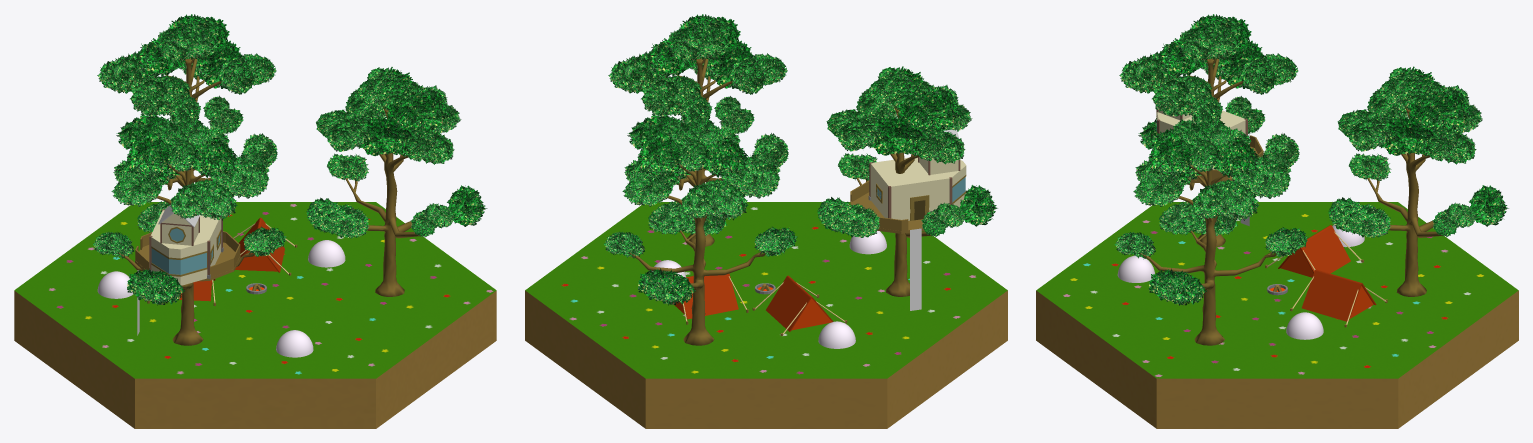
Rendered from Tuile_Foret_Village_Niv2.fbx.
3 renders of one model, left to right at view 1: azimuth 30°, elevation 25°; view 2: azimuth 150°, elevation 25°; view 3: azimuth 270°, elevation 25°, orthographic.
Parts seen in each view (by area): view 1: Tuile, Arbres, maison.002, Sphere, platforme.002, Tente.004, poutre.002, Tente.001; view 2: Tuile, Arbres, maison.002, Tente.001, Sphere, Tente.004, platforme.002, Plane.002; view 3: Tuile, Arbres, Tente.004, Tente.001, Sphere, maison.002.
Boxes of the visible parts, <box> form: Tuile: <box>14,202,496,428</box>; Arbres: <box>93,14,487,345</box>; maison.002: <box>151,210,221,285</box>; Sphere: <box>97,240,345,357</box>; platforme.002: <box>135,231,240,281</box>; Tente.004: <box>233,217,297,275</box>; poutre.002: <box>149,209,223,278</box>; Tente.001: <box>147,279,215,305</box>; Tuile: <box>525,202,1007,428</box>; Arbres: <box>604,14,997,345</box>; maison.002: <box>870,157,966,220</box>; Tente.001: <box>752,275,847,335</box>; Sphere: <box>651,231,886,348</box>; Tente.004: <box>673,269,748,324</box>; platforme.002: <box>850,180,950,233</box>; Plane.002: <box>910,228,921,310</box>; Tuile: <box>1036,202,1518,428</box>; Arbres: <box>1114,14,1508,345</box>; Tente.004: <box>1290,269,1387,327</box>; Tente.001: <box>1265,225,1363,277</box>; Sphere: <box>1117,224,1364,339</box>; maison.002: <box>1156,109,1245,169</box>.
Size of the model in its own units: 107 by 75.08 by 124.
